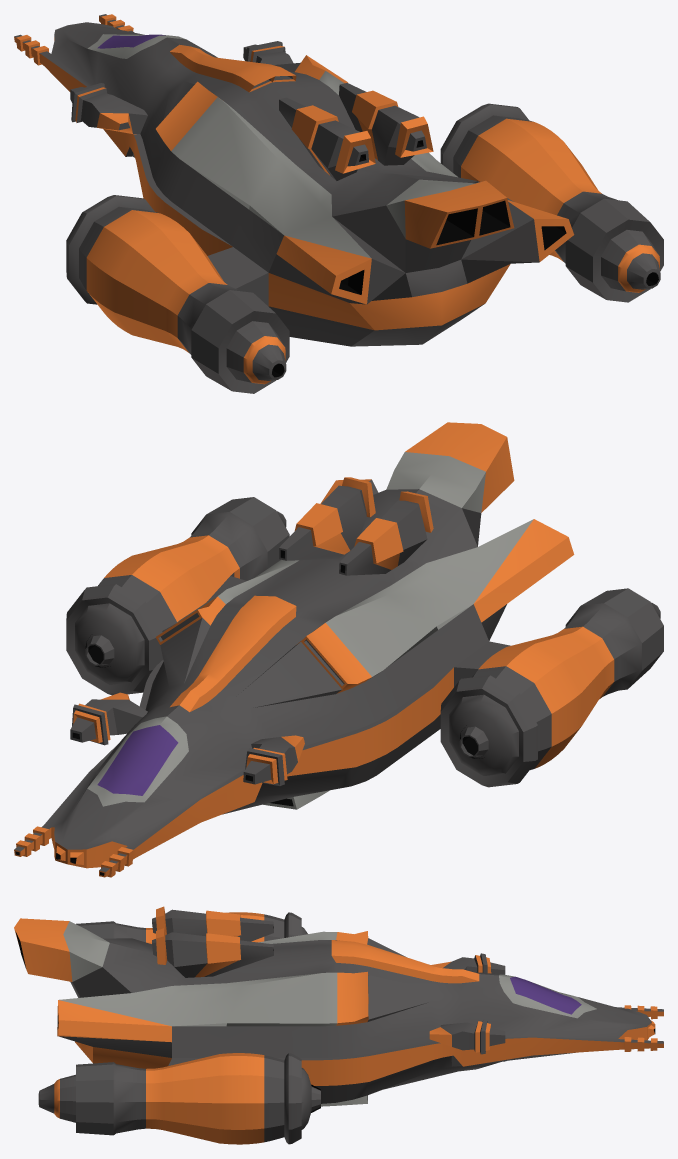
Rendered from spaceship.glb.
3 renders of one model, top to bottom at view 1: azimuth 30°, elevation 25°; view 2: azimuth 150°, elevation 25°; view 3: azimuth 270°, elevation 25°, orthographic. The views are drawn at different scales.
Visible parts, largest first — view 1: Spaceship; view 2: Spaceship; view 3: Spaceship.
Part boxes in pixels (x1,y1,x2,y2): Spaceship: (14, 14, 663, 393); Spaceship: (14, 422, 663, 877); Spaceship: (14, 906, 663, 1144).
Bounding box in the file's own units: 6.45 × 2.9 × 10.03.
